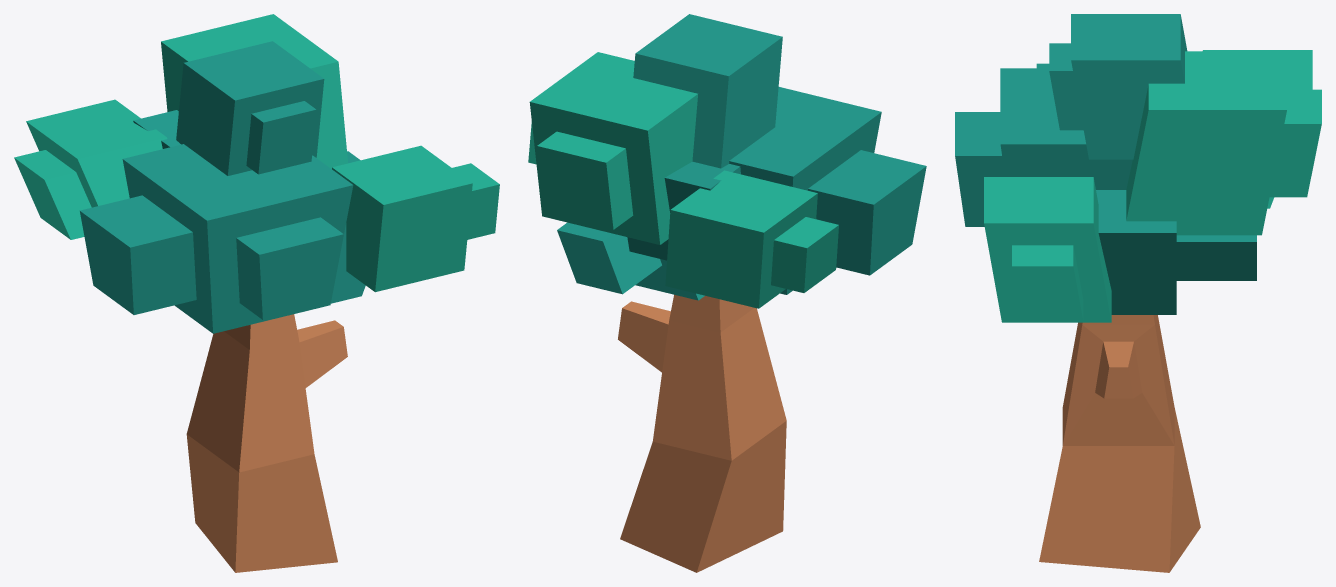
The model's file is tree1.fbx.
3 views of the same model, side by side, from view 1: azimuth 30°, elevation 25°; view 2: azimuth 150°, elevation 25°; view 3: azimuth 270°, elevation 25° (orthographic). The views are drawn at different scales.
Parts seen in each view (by area): view 1: pCube3, pCube1, pCube7, pCube6, pCube8, pCube5, pCube2, pCube4; view 2: pCube1, pCube5, pCube3, pCube8, pCube6, pCube2, pCube4; view 3: pCube1, pCube5, pCube7, pCube6, pCube3, pCube2, pCube8.
Boxes of the visible parts, x1,y1,x2,y2 form: pCube3: (80, 144, 353, 333); pCube1: (186, 314, 347, 572); pCube7: (332, 145, 499, 292); pCube6: (176, 41, 324, 175); pCube8: (14, 99, 167, 239); pCube5: (161, 14, 347, 168); pCube2: (331, 151, 365, 303); pCube4: (133, 110, 180, 148); pCube1: (618, 294, 786, 572); pCube5: (529, 52, 697, 244); pCube3: (729, 87, 926, 294); pCube8: (665, 170, 838, 308); pCube6: (633, 14, 782, 168); pCube2: (557, 222, 704, 300); pCube4: (627, 161, 740, 260); pCube1: (1039, 315, 1200, 572); pCube5: (1126, 51, 1321, 235); pCube7: (984, 177, 1111, 322); pCube6: (1049, 14, 1187, 159); pCube3: (955, 63, 1132, 226); pCube2: (1096, 190, 1256, 314); pCube8: (1203, 50, 1312, 208).
Size of the model in its own units: 294 by 370 by 245.
